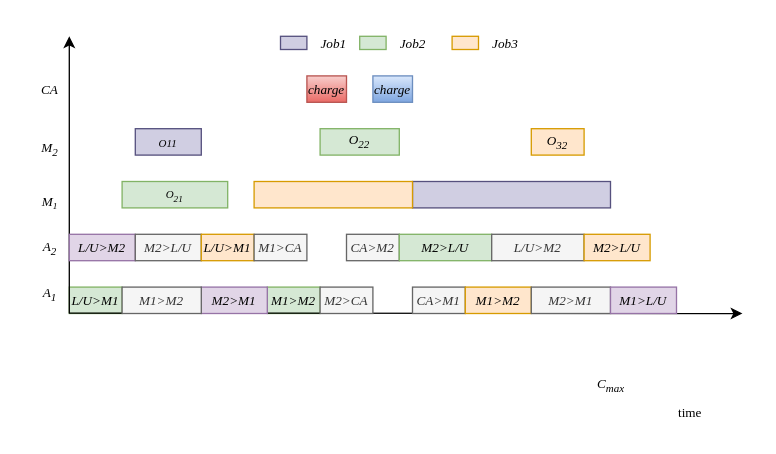
This 776x454 diagram has some shape labels left out. The shapes that lost their labels are listed below. From the top down, each one's centre as x and y in pixels, then its label:
the point at 332,194: O 31
the point at 510,194: O 12
